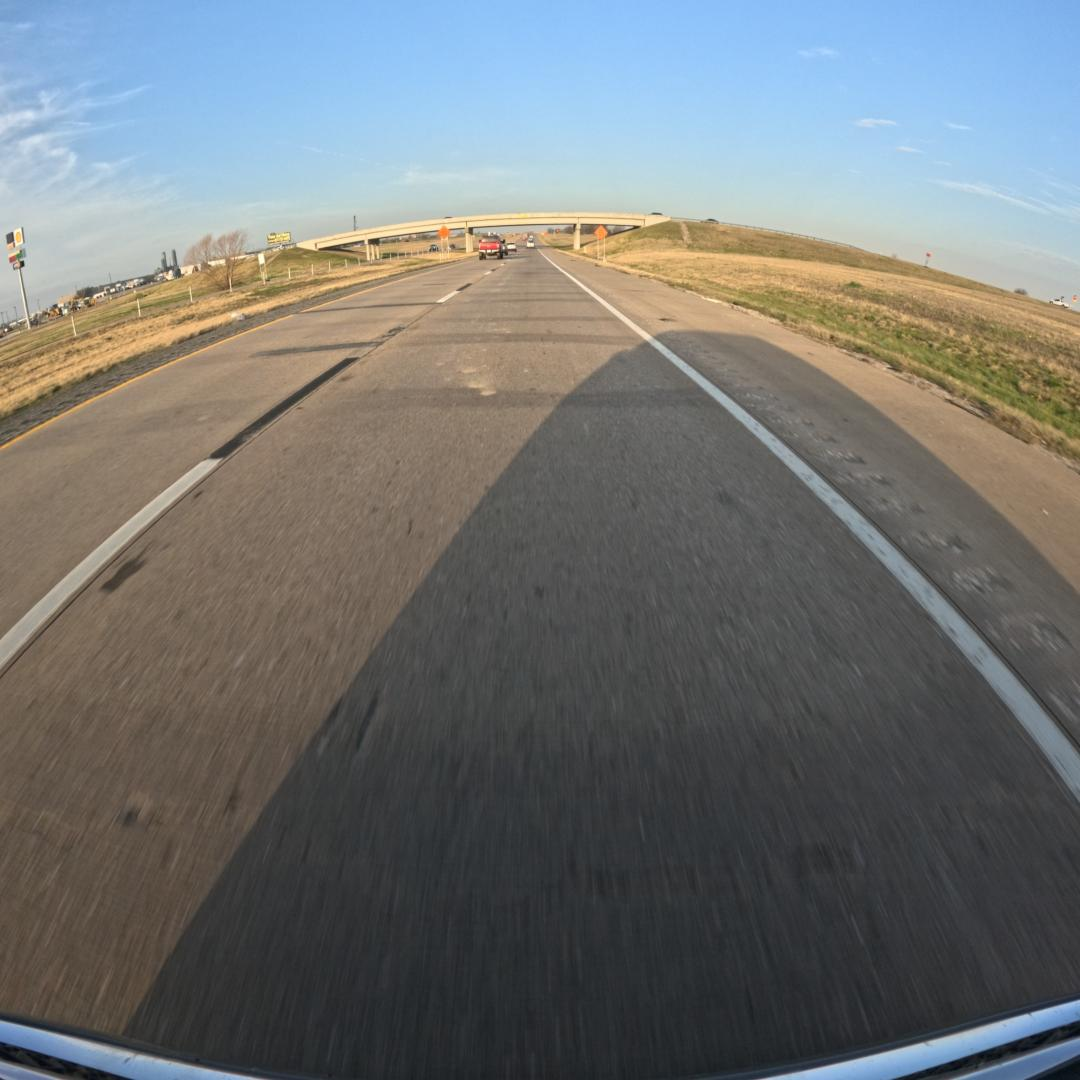lane0: (0, 251, 1080, 1076)
lane1: (0, 259, 505, 675)
